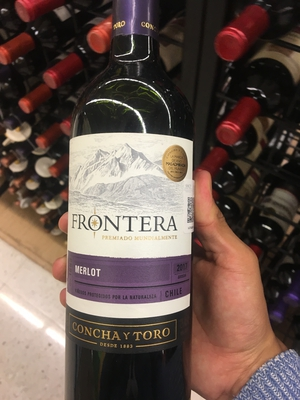frontera merlot: (55, 3, 210, 400)
